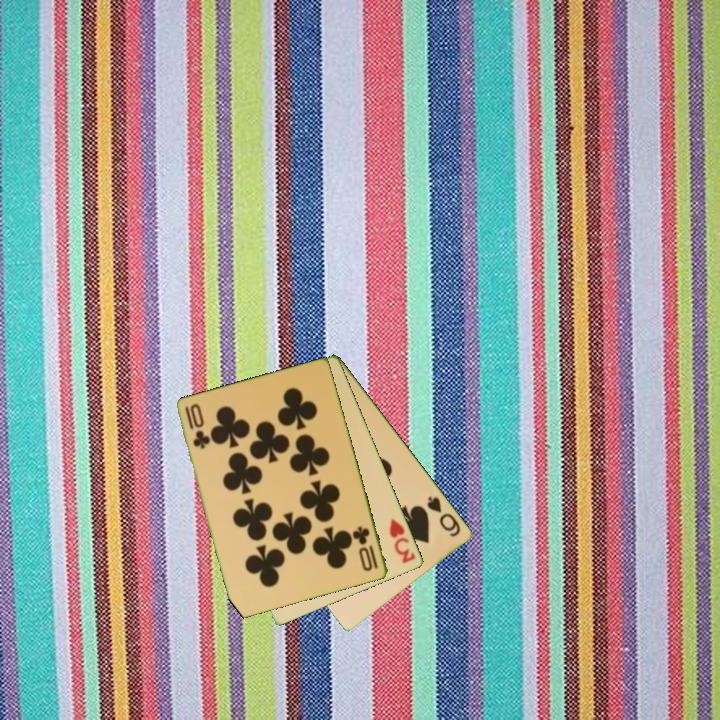10c: (350, 523, 381, 574), (182, 400, 212, 452)
3h: (386, 515, 419, 566)
6s: (424, 493, 464, 540)
